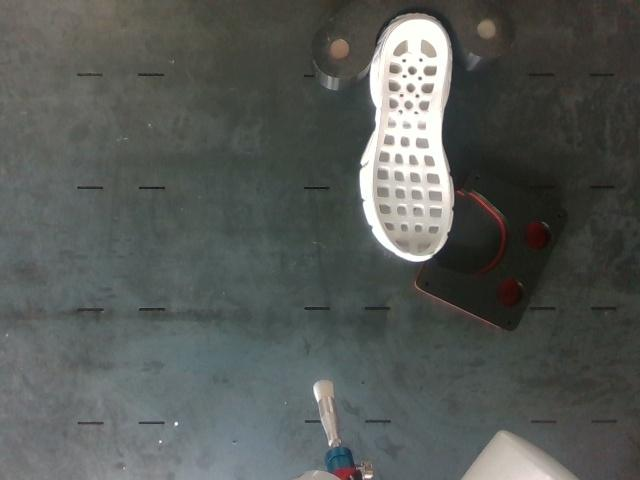shoes: (372, 17, 451, 256)
